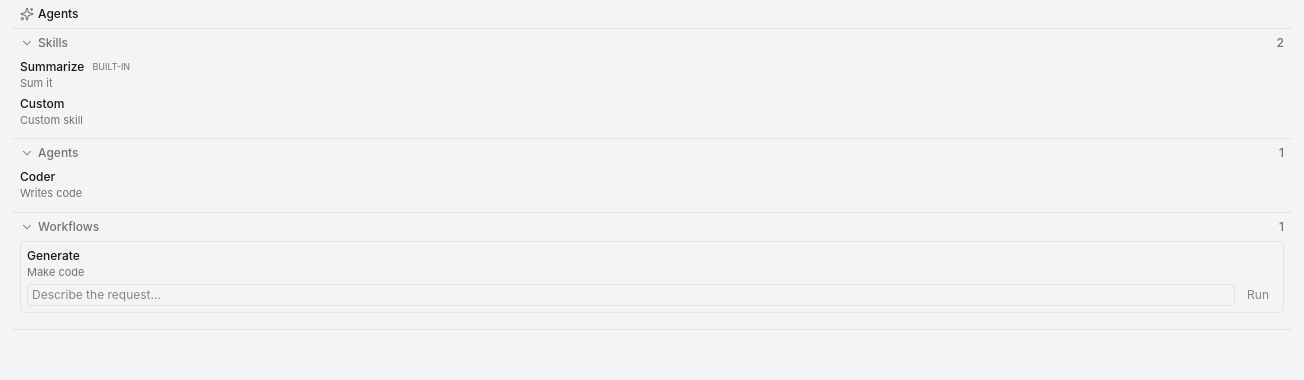
Test: AgentsPanel › runs a workflow with the correct body when a component is selected
The image size is (1304, 380).
Expected: the list item with test id "workflow-w1" is shown, 20,240 -> 1284,313
Type "build me a button" into the field with test id "workflow-prompt-w1" at (631, 295), box 27,284 -> 1235,306
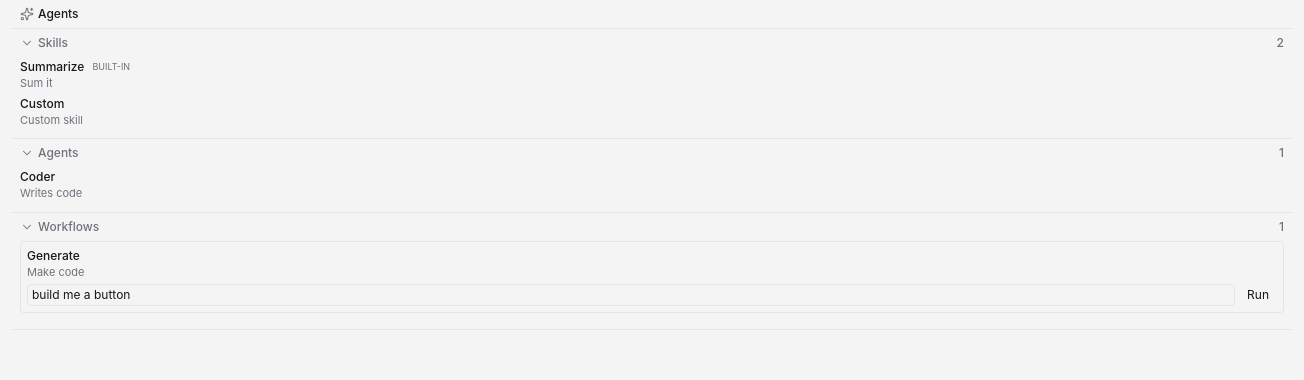
Click the button with test id "workflow-run-w1" at (1258, 295), box 1239,285 -> 1277,305
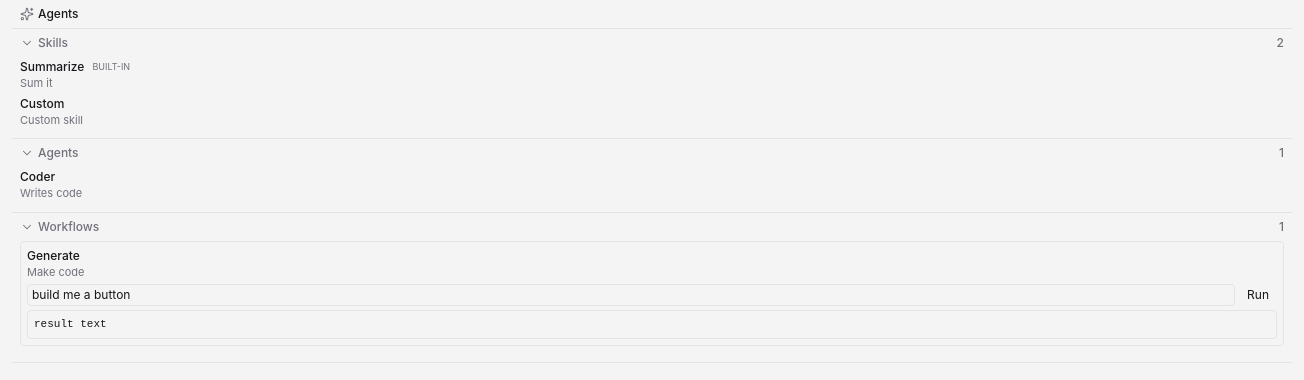
Expected: the element with test id "run-result" is shown, 27,310 -> 1277,339
Expected: the element with test id "run-result" reads "result text", 34,318 -> 107,330
